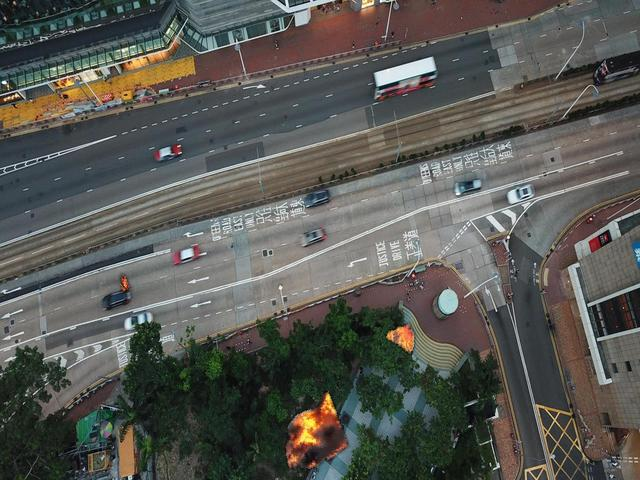fire: (282, 391, 350, 471), (385, 323, 416, 353), (118, 270, 132, 292)
